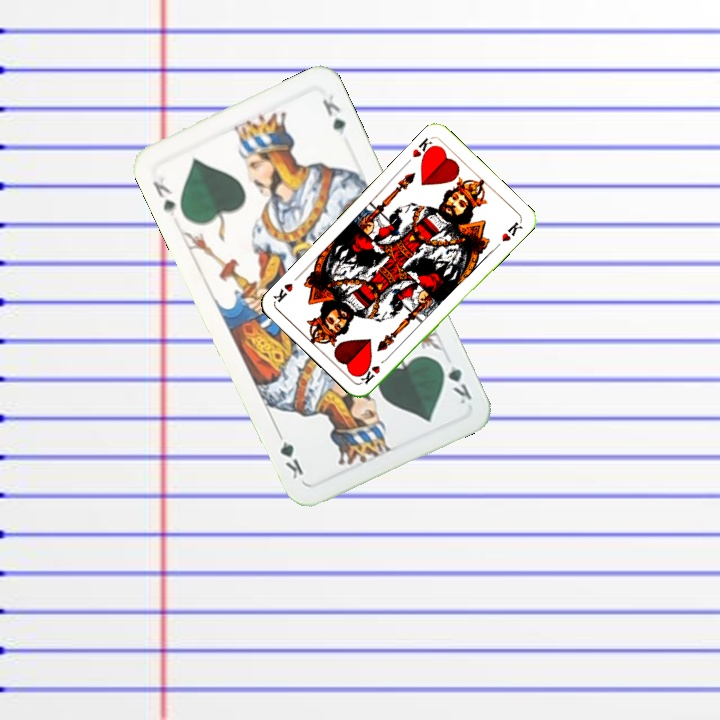GK: (434, 356, 475, 407), (148, 172, 179, 219)
HK: (356, 353, 390, 387), (408, 133, 439, 163)
